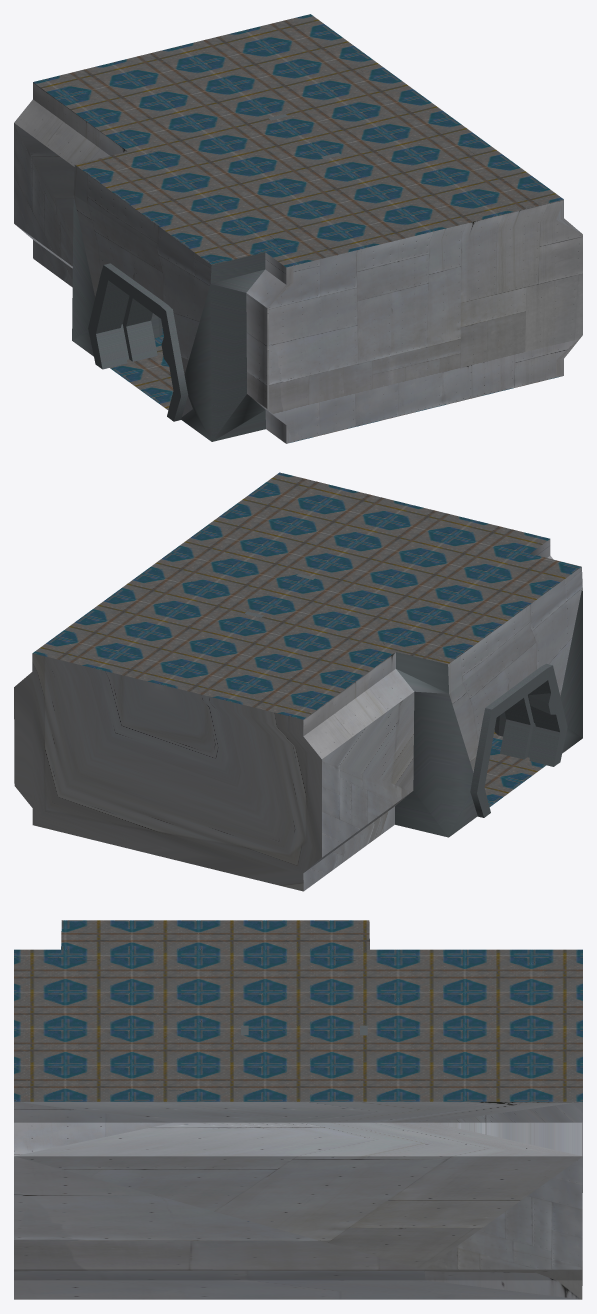
Rendered from almacen_3.obj.
The picture shows the model from 3 angles, top to bottom: view 1: azimuth 30°, elevation 25°; view 2: azimuth 150°, elevation 25°; view 3: azimuth 270°, elevation 25°; orthographic projection. The views are drawn at different scales.
Visible parts, largest first — view 1: polySurface808; view 2: polySurface808; view 3: polySurface808.
Part boxes in pixels (bbox=[...]): polySurface808: bbox=[14, 14, 582, 443]; polySurface808: bbox=[14, 472, 582, 891]; polySurface808: bbox=[14, 920, 582, 1299].
Size of the model in its own units: 42.95 by 20.3 by 52.63.
